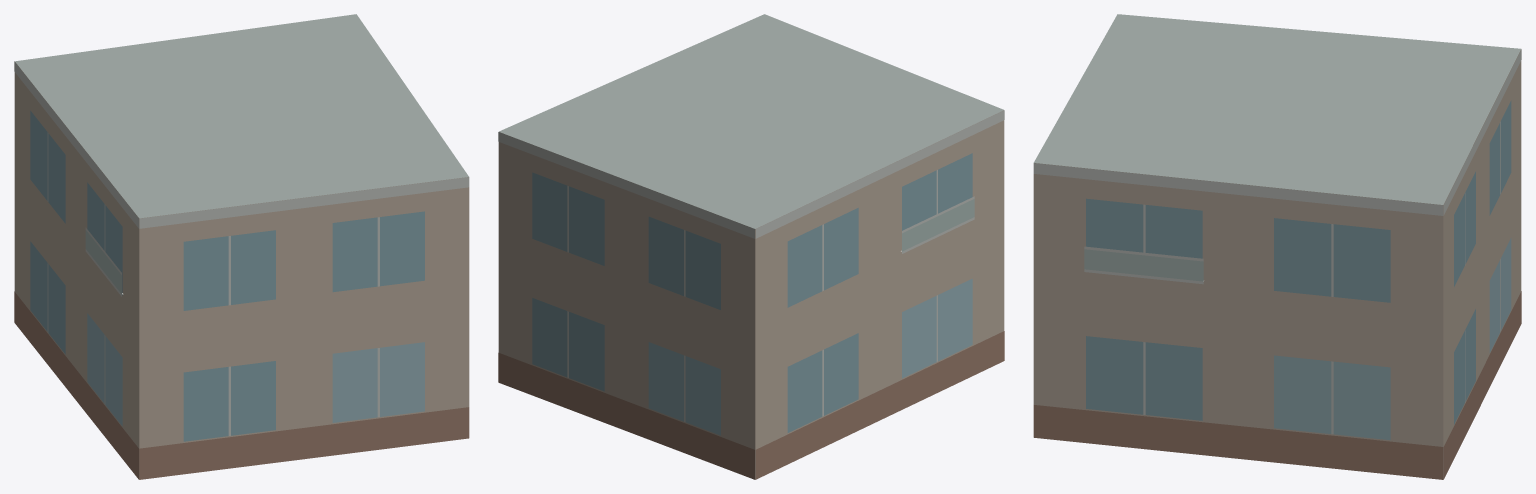
File: survey-upis-32653906.glb
3 renders of one model, left to right at view 1: azimuth 30°, elevation 25°; view 2: azimuth 150°, elevation 25°; view 3: azimuth 270°, elevation 25°, orthographic. The views are drawn at different scales.
Visible parts, largest first — view 1: survey-upis-32653906.tmp; view 2: survey-upis-32653906.tmp; view 3: survey-upis-32653906.tmp.
Boxes of the visible parts, x1=… form: survey-upis-32653906.tmp: x1=14, y1=14, x2=469, y2=479; survey-upis-32653906.tmp: x1=498, y1=14, x2=1004, y2=479; survey-upis-32653906.tmp: x1=1033, y1=14, x2=1521, y2=479.
Bounding box in the file's own units: 9.1 × 6.1 × 9.83.
